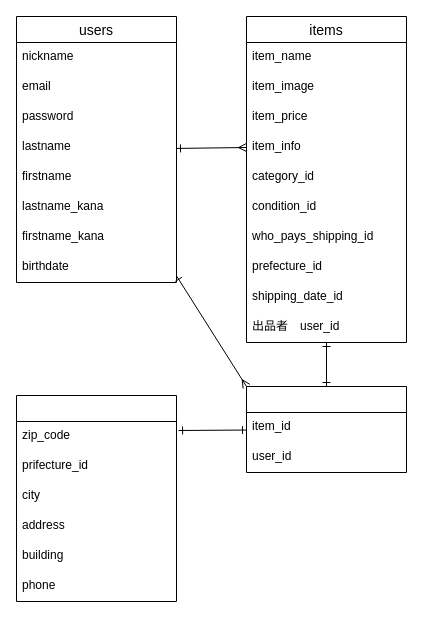
The diagram is 423 pixels wide and 618 high, and some of its shapes have lost their labels. The shapes that lost their labels are listed below. From the top down, each one's box as (x1, y1, x2, y2) in pixels, then its label:
(246, 386, 406, 472): orders
(16, 394, 176, 602): shipping_infos
